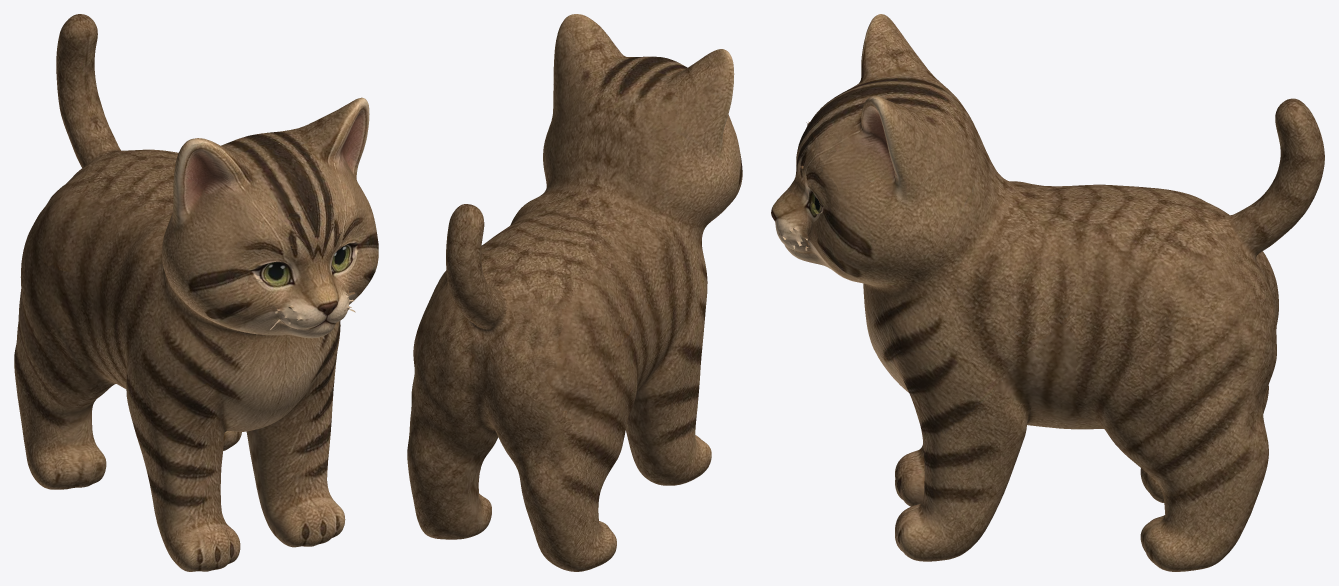
File: meshy-lihua.glb
The picture shows the model from 3 angles, left to right: view 1: azimuth 30°, elevation 25°; view 2: azimuth 150°, elevation 25°; view 3: azimuth 270°, elevation 25°; orthographic projection. The views are drawn at different scales.
Visible parts, largest first — view 1: Mesh_0; view 2: Mesh_0; view 3: Mesh_0.
Part boxes in pixels (x1=…): Mesh_0: x1=14, y1=14, x2=378, y2=571; Mesh_0: x1=407, y1=14, x2=742, y2=571; Mesh_0: x1=771, y1=14, x2=1324, y2=571.
Size of the model in its own units: 0.8805 by 1.78 by 1.9.
1 material, 1 textured.
